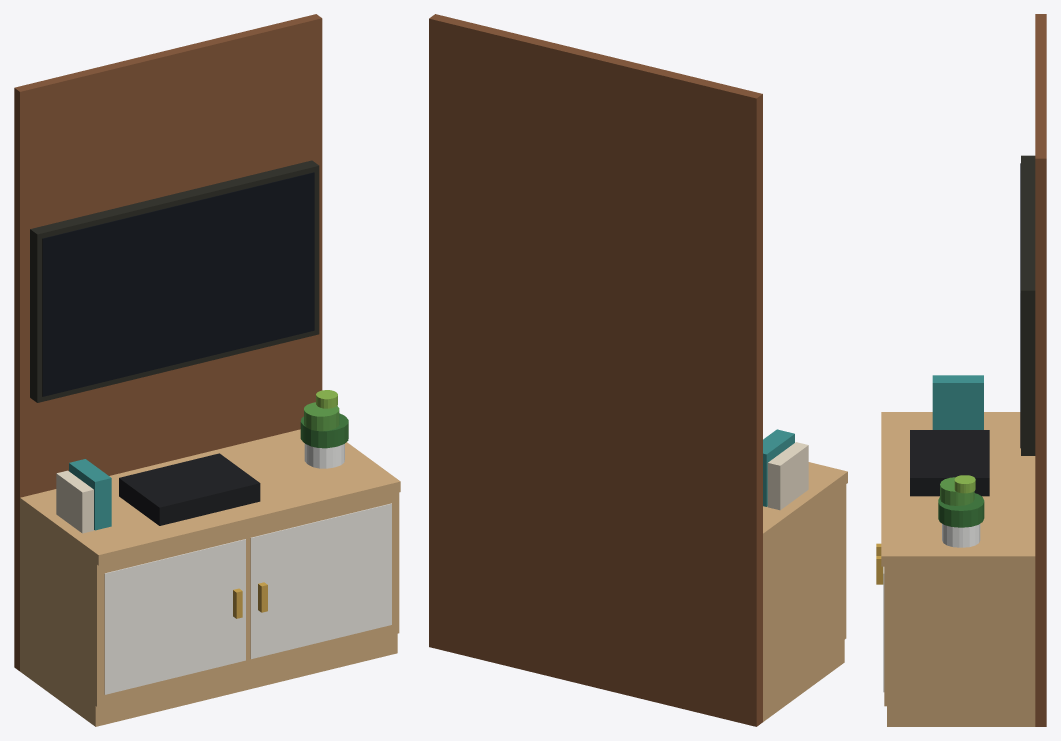
The picture shows the model from 3 angles, left to right: view 1: azimuth 30°, elevation 25°; view 2: azimuth 150°, elevation 25°; view 3: azimuth 270°, elevation 25°; orthographic projection. The views are drawn at different scales.
Visible parts, largest first — view 1: tv_Body; view 2: tv_Body; view 3: tv_Body.
Part boxes in pixels (left/top/right/bottom): tv_Body: left=14, top=14, right=400, bottom=726; tv_Body: left=429, top=14, right=847, bottom=726; tv_Body: left=876, top=14, right=1046, bottom=726.
Size of the model in its own units: 1.2 by 2.2 by 0.598.
